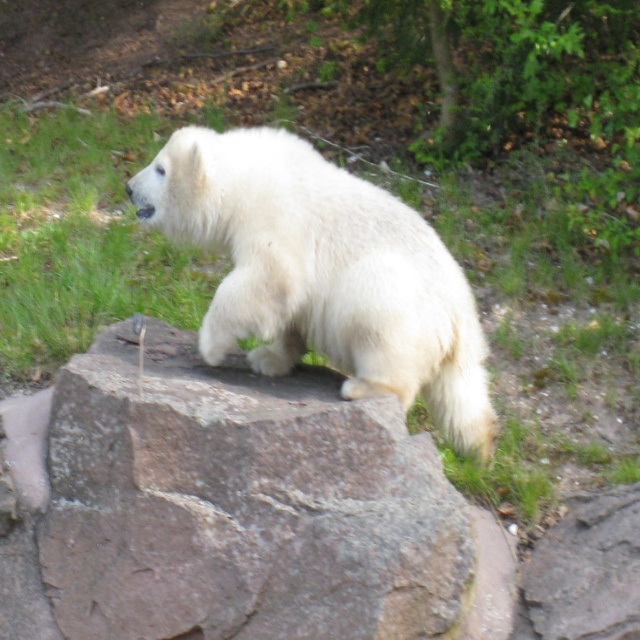Polar bear: (125, 123, 504, 474)
